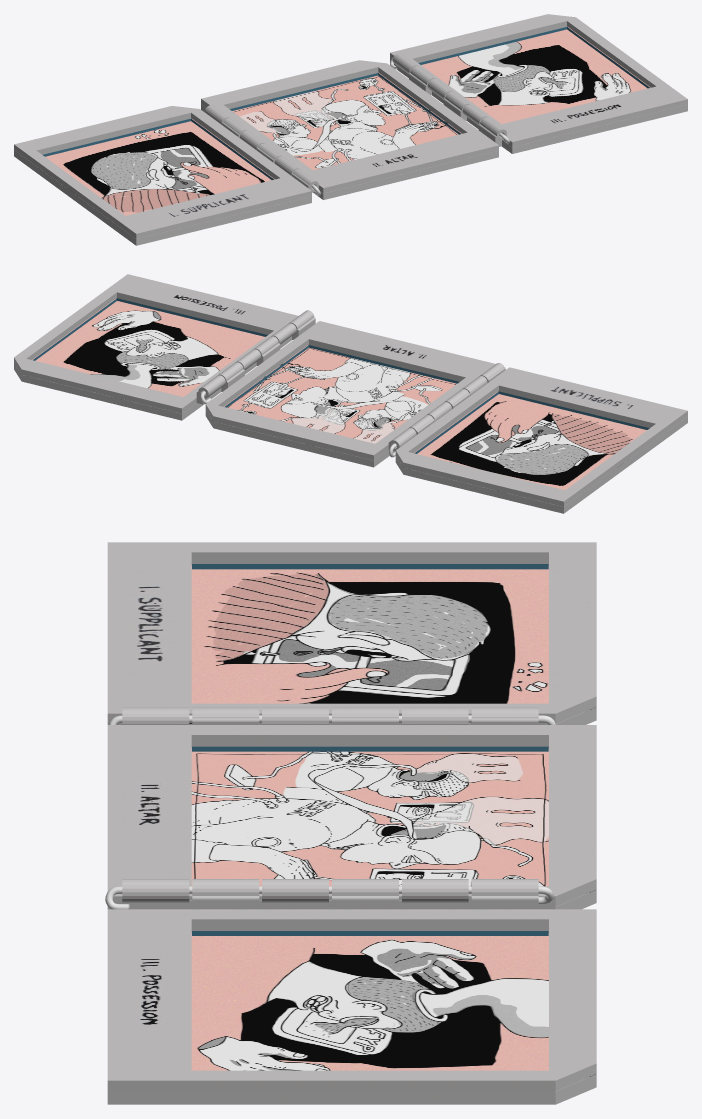
File: fyp-triptych.glb
The picture shows the model from 3 angles, top to bottom: view 1: azimuth 30°, elevation 25°; view 2: azimuth 150°, elevation 25°; view 3: azimuth 270°, elevation 25°; orthographic projection. The views are drawn at different scales.
Parts seen in each view (by area): view 1: LEFTCARD, CENTER, RIGHTCARD; view 2: LEFTCARD, CENTER, RIGHTCARD; view 3: RIGHTCARD, CENTER, LEFTCARD.
Boxes of the visible parts, <box> form: LEFTCARD: <box>14,106,319,245</box>; CENTER: <box>201,60,506,199</box>; RIGHTCARD: <box>390,14,687,153</box>; LEFTCARD: <box>395,363,687,513</box>; CENTER: <box>205,310,495,467</box>; RIGHTCARD: <box>14,274,298,420</box>; RIGHTCARD: <box>107,879,596,1104</box>; CENTER: <box>107,707,596,909</box>; LEFTCARD: <box>107,542,596,724</box>.
Bounding box in the file's own units: 0.2601 × 0.0106 × 0.1003.
Materials: 4 (3 with a texture image).
